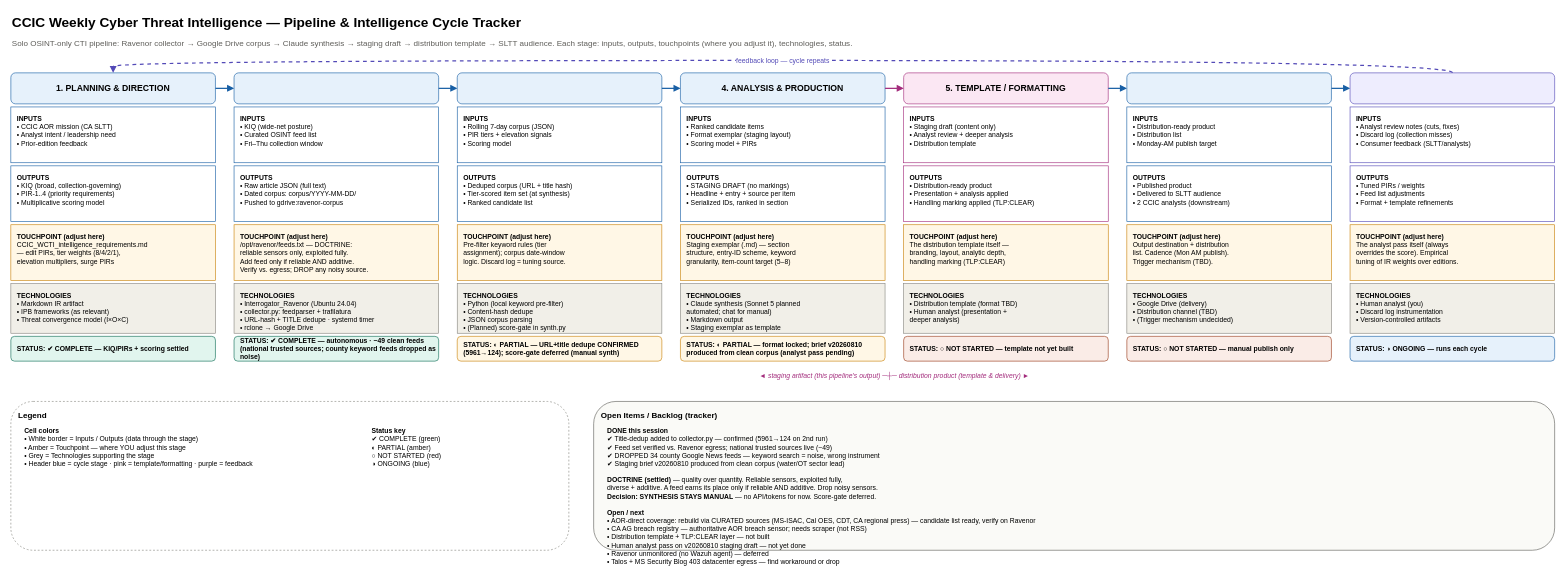
The diagram is 1566 pixels wide and 577 high, and some of its shapes have lost their labels. The centre of each missing label's shape, as x and y in pixels:
"2. COLLECTION" belongs at point 336,88.
"3. PROCESSING & EXPLOITATION" belongs at point 559,88.
"6. DISSEMINATION" belongs at point 1228,88.
"7. FEEDBACK & EVALUATION" belongs at point 1452,88.
